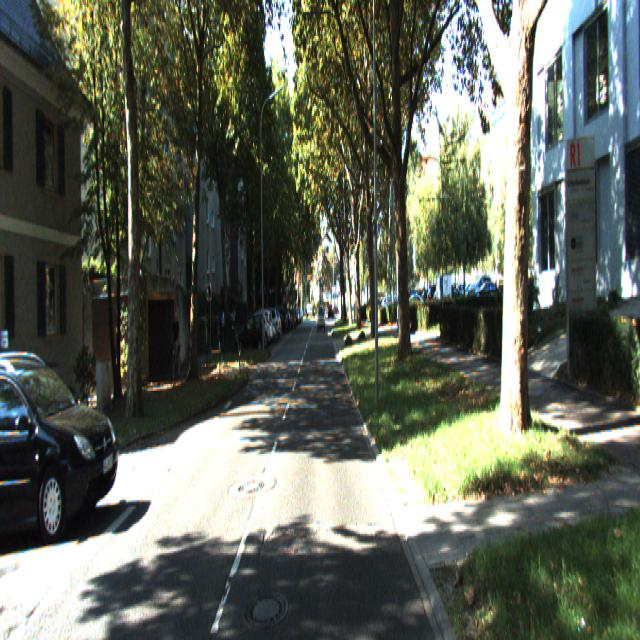Car: (0, 344, 123, 554), (234, 316, 265, 356)
